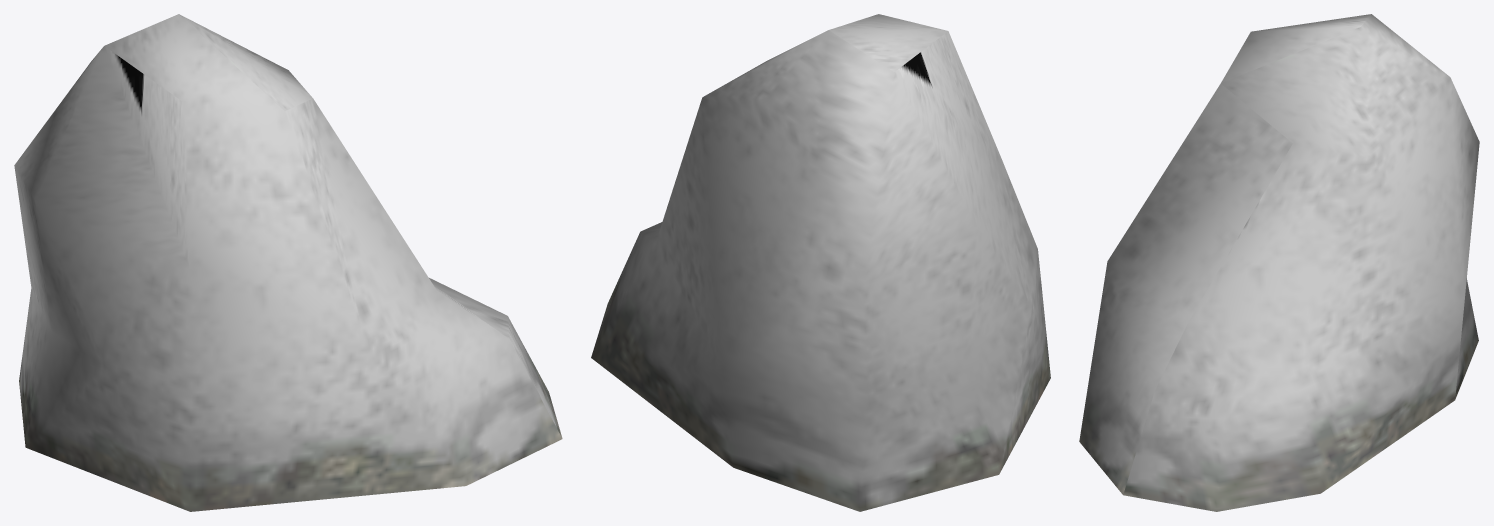
The model's file is general_obj_stone05_lod_01.fbx.
3 views of the same model, side by side, from view 1: azimuth 30°, elevation 25°; view 2: azimuth 150°, elevation 25°; view 3: azimuth 270°, elevation 25° (orthographic). The views are drawn at different scales.
Parts seen in each view (by area): view 1: Sphere01; view 2: Sphere01; view 3: Sphere01.
Part boxes in pixels (bbox=[...]): Sphere01: bbox=[14, 14, 562, 511]; Sphere01: bbox=[591, 14, 1050, 511]; Sphere01: bbox=[1079, 14, 1479, 511].
Bounding box in the file's own units: 3.43 × 2.86 × 2.91.
